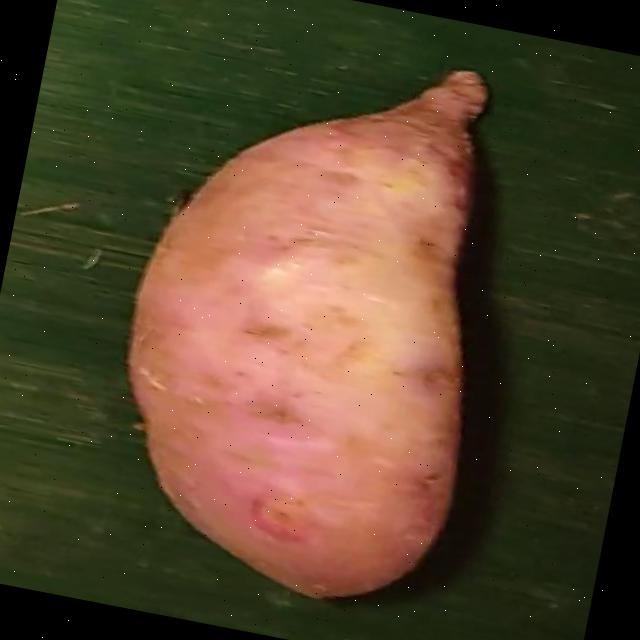Sweet Potato: (124, 69, 487, 604)
